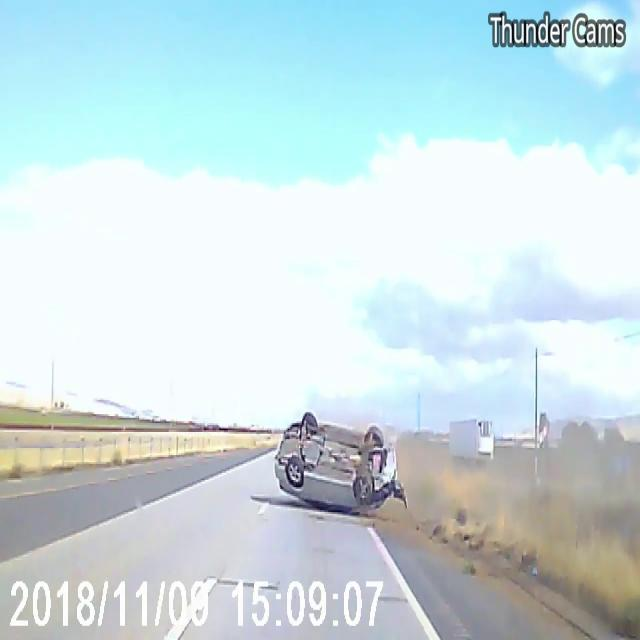accident: (263, 395, 407, 529)
